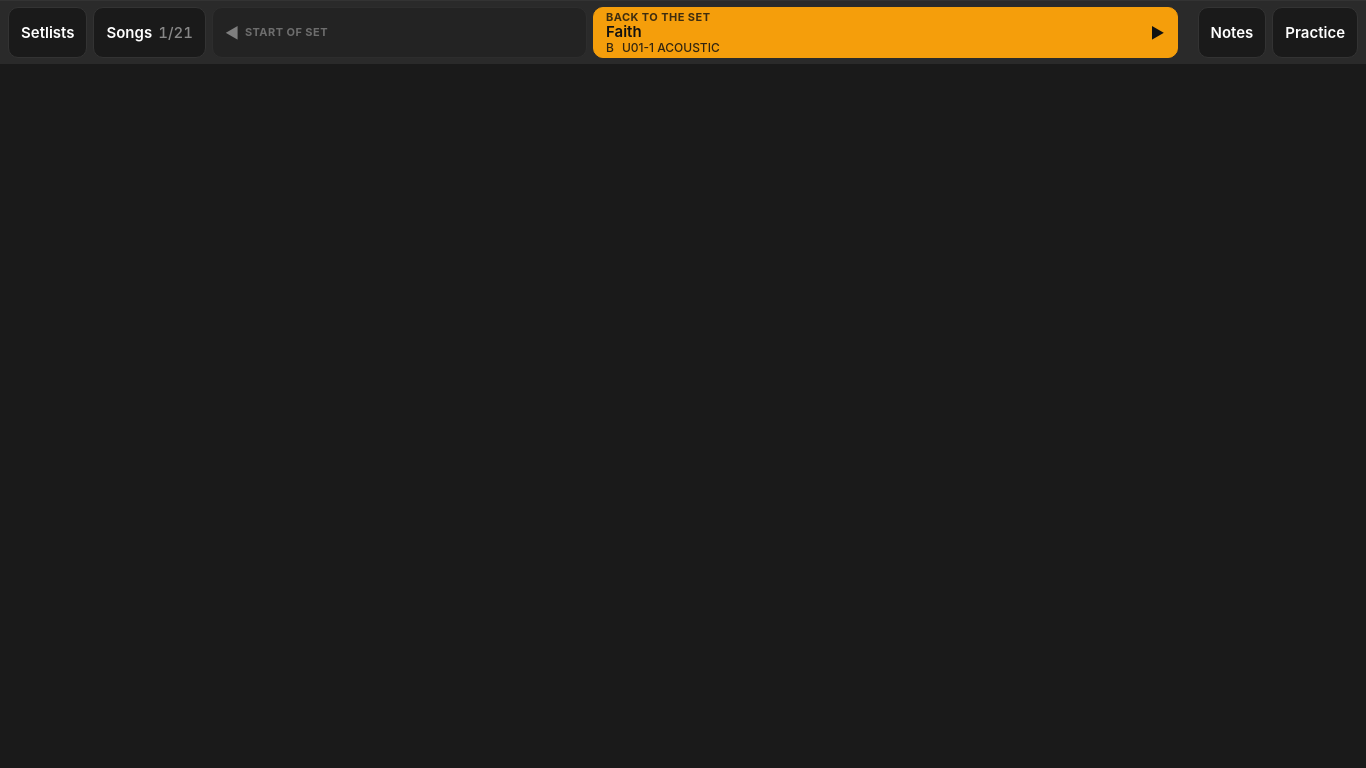
Scenario: the Notes sheet, on Stage › shows the notes of an extra song
Click the button "Notes" at (1232, 32), box [1198,7,1266,58]
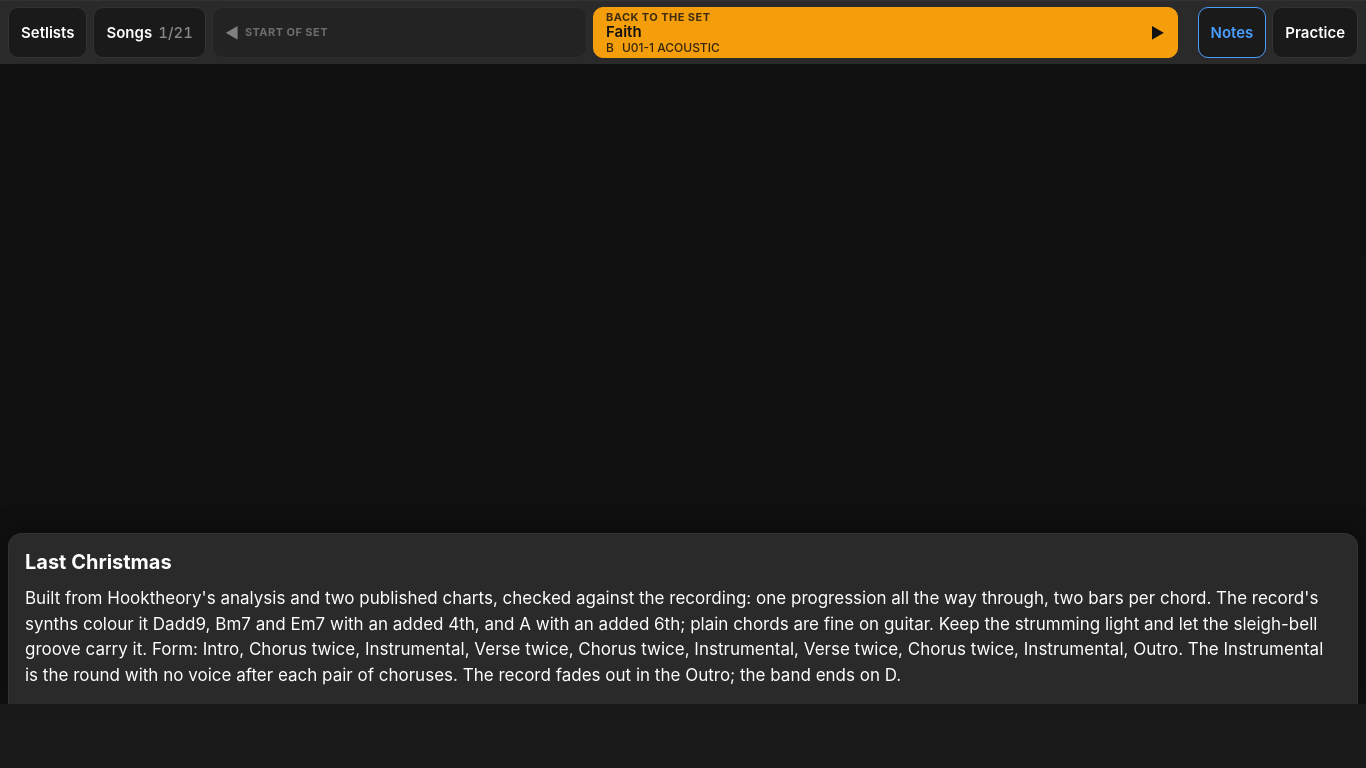
Result: the heading "Last Christmas" is shown at [25,550,172,574]
